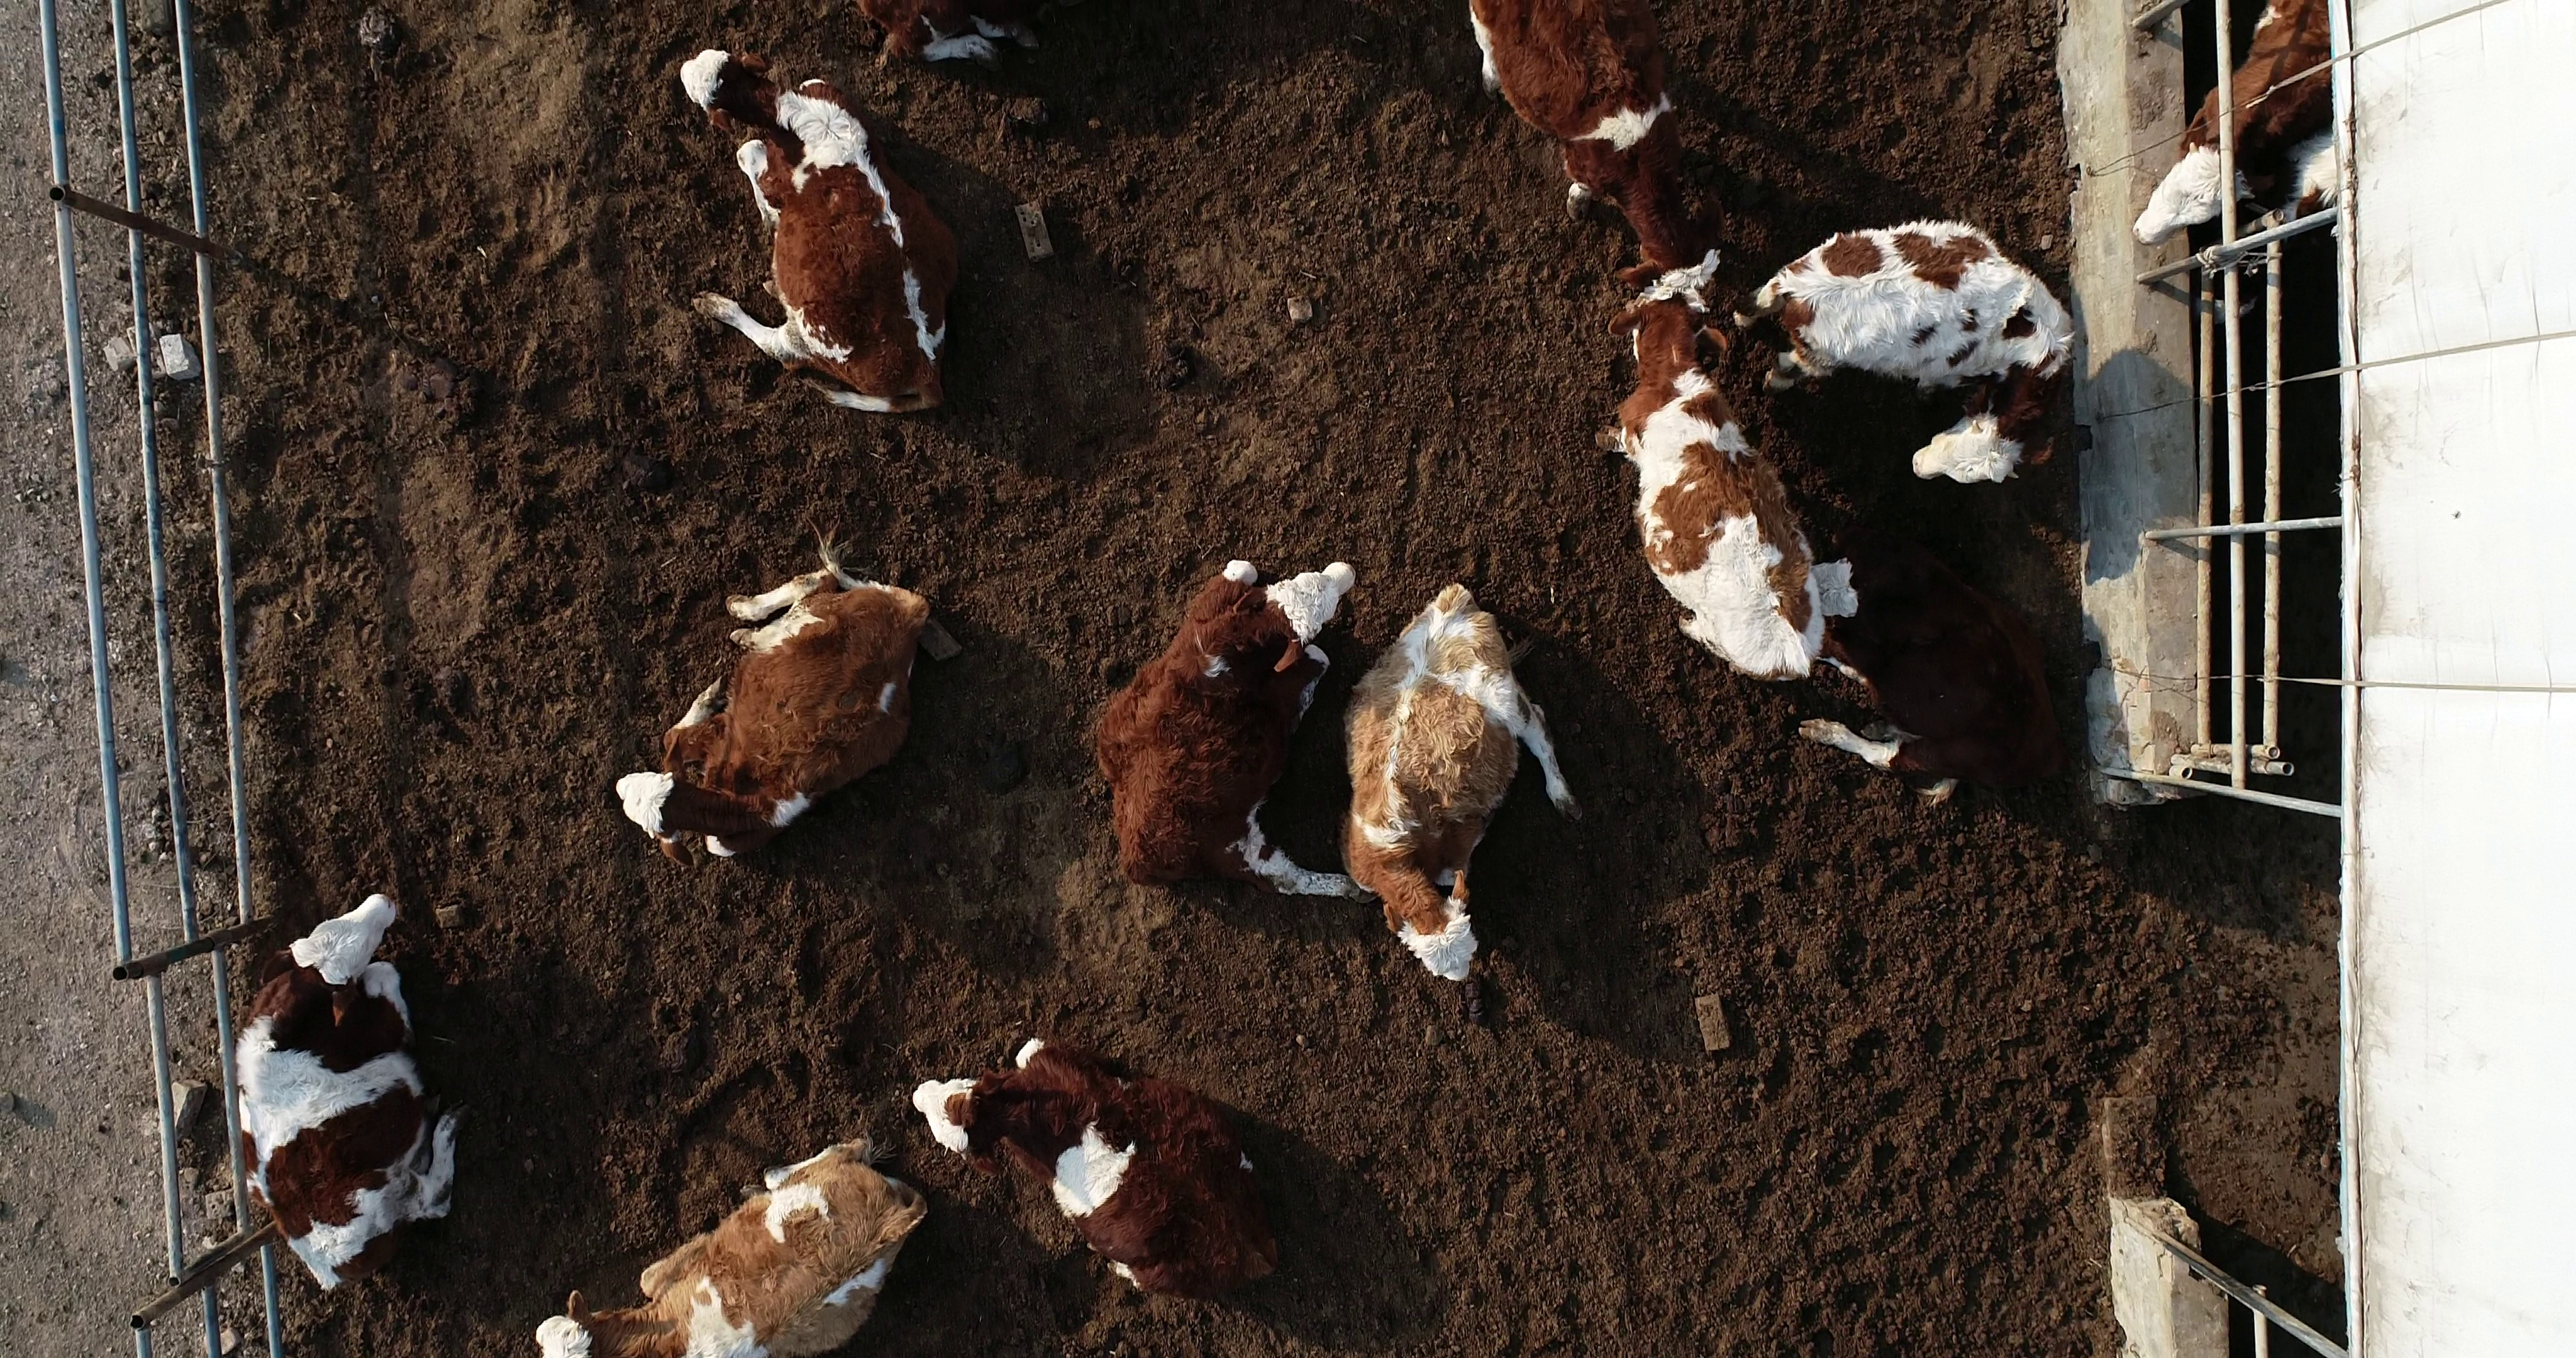cattle: (673, 43, 968, 419), (1089, 550, 1385, 910), (1334, 576, 1586, 992), (230, 886, 479, 1298), (908, 1036, 1285, 1302), (1728, 216, 2084, 492), (1591, 286, 1828, 692)
